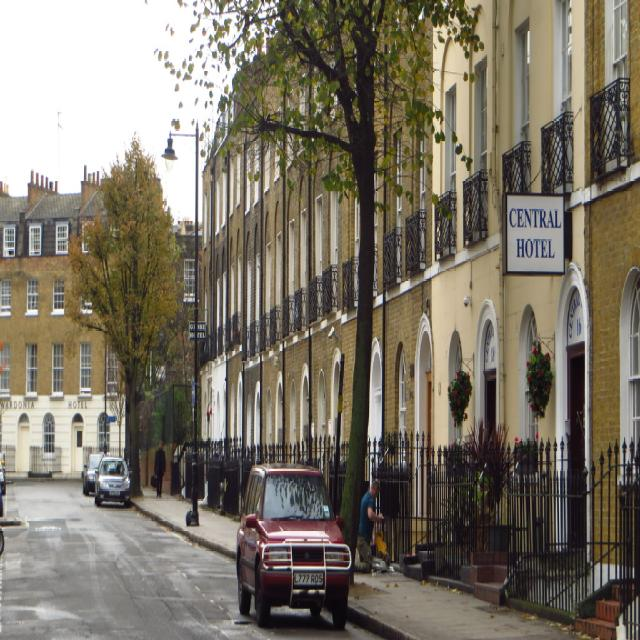car: (233, 462, 351, 622), (96, 457, 130, 505)
